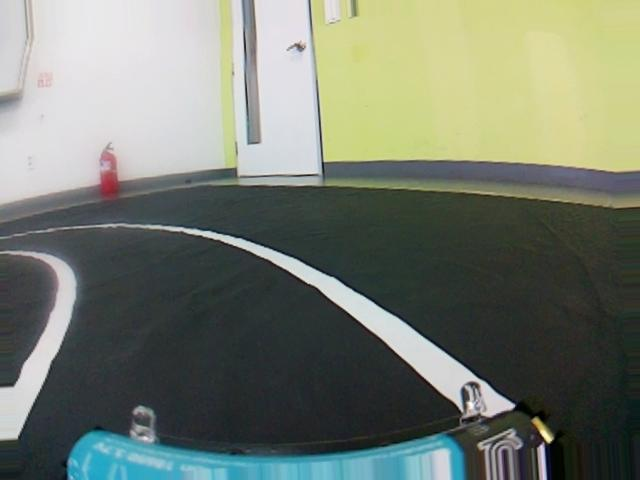left: (0, 205, 609, 479)
